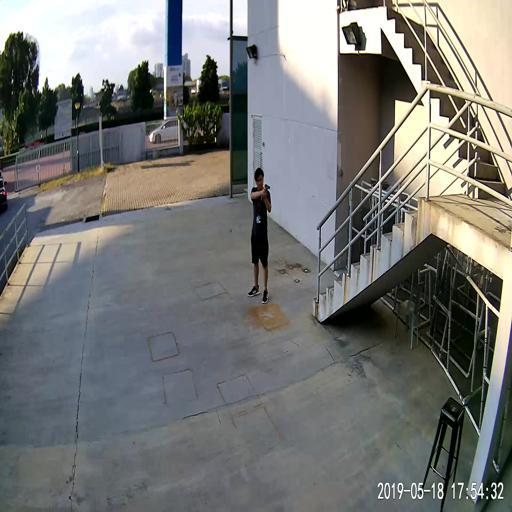Handgun: (263, 181, 269, 189)
